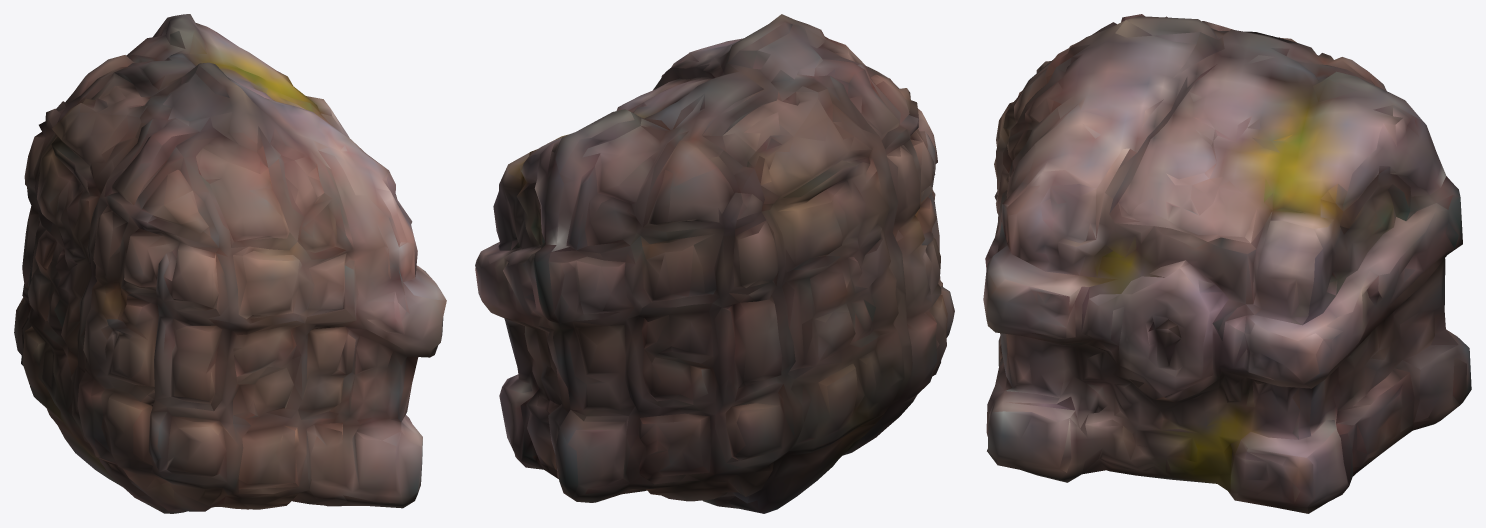
The model's file is chest_stone.glb.
3 views of the same model, side by side, from view 1: azimuth 30°, elevation 25°; view 2: azimuth 150°, elevation 25°; view 3: azimuth 270°, elevation 25° (orthographic).
Visible parts, largest first — view 1: model; view 2: model; view 3: model.
Boxes of the visible parts, <box> form: model: <box>14,14,446,513</box>; model: <box>475,14,954,513</box>; model: <box>983,14,1471,513</box>.
Size of the model in its own units: 0.8508 by 0.9459 by 1.
1 material, 1 textured.
